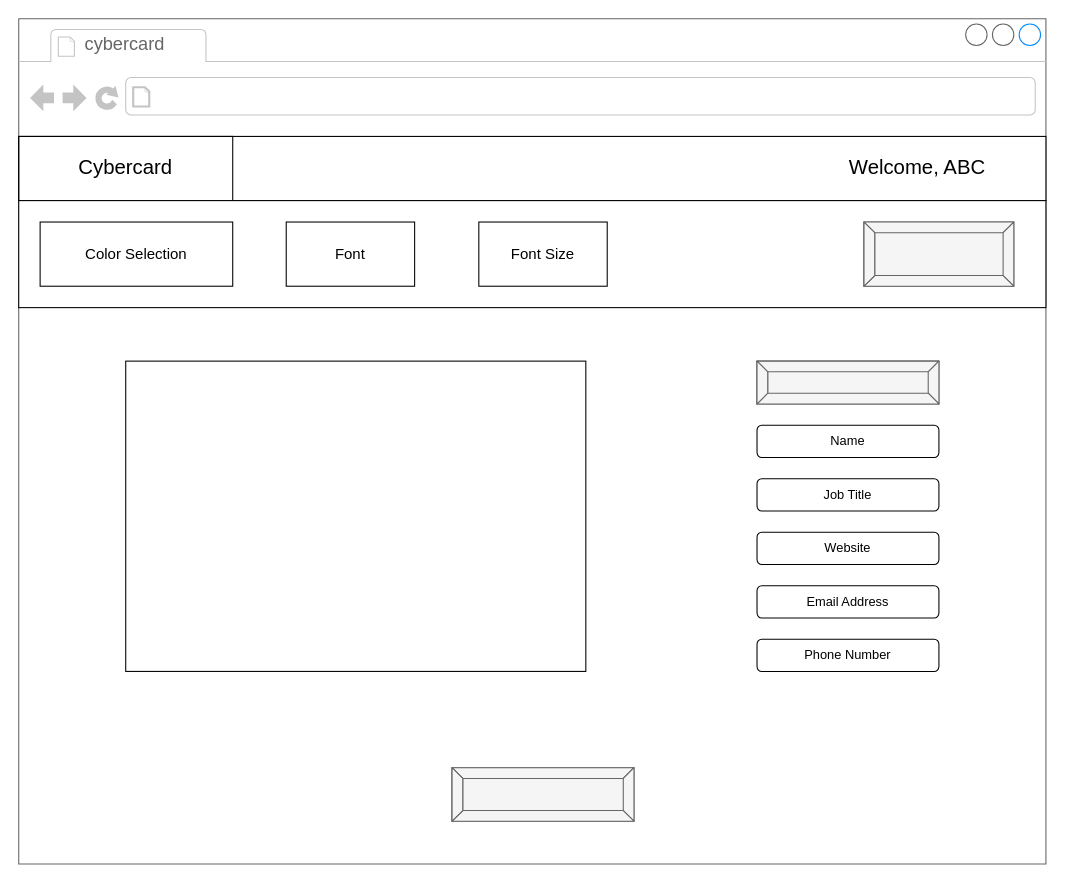
Some shapes in this 1065 by 883 pixel diagram are drawn without their labels. Here are the shapes that lost their labels. From the top down, the centre of each, then its label:
point (291, 96): https://www.cybercard
point (938, 253): Upload
point (847, 382): Add text
point (355, 515): view card here
point (542, 794): Save card design
